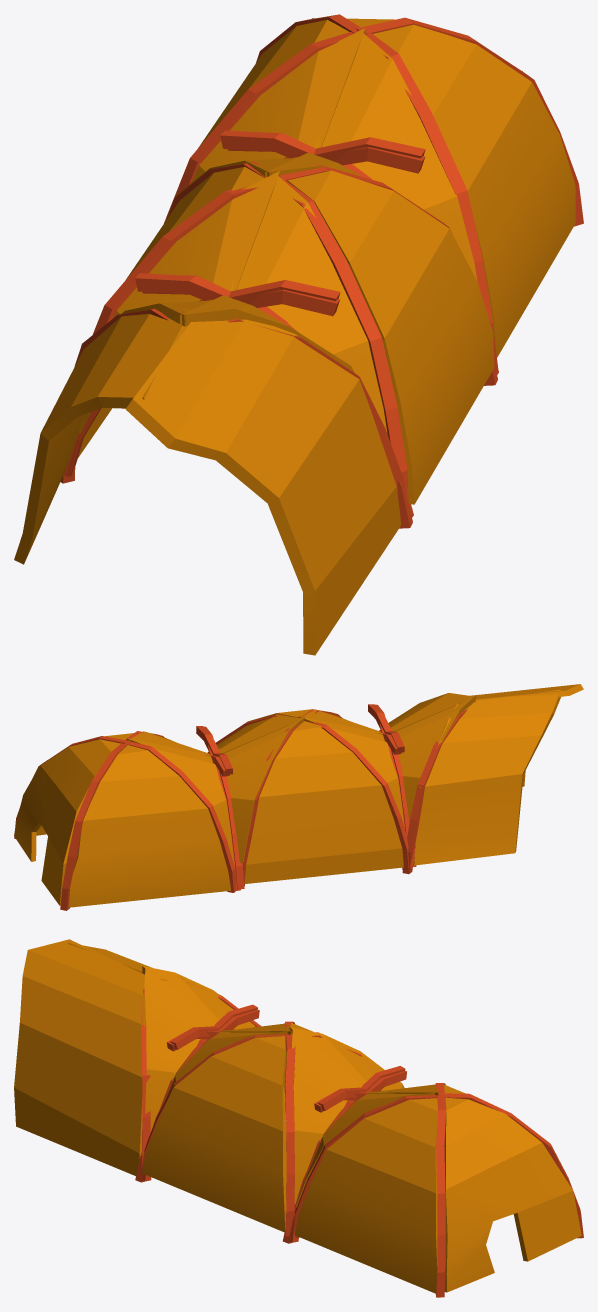
Rendered from NY_archs.fbx.
3 views of the same model, one above another, from view 1: azimuth 30°, elevation 25°; view 2: azimuth 150°, elevation 25°; view 3: azimuth 270°, elevation 25° (orthographic). The views are drawn at different scales.
Parts seen in each view (by area): view 1: actualArcs; view 2: actualArcs; view 3: actualArcs.
Boxes of the visible parts, bbox=[...] form: actualArcs: bbox=[14, 14, 583, 655]; actualArcs: bbox=[14, 684, 583, 910]; actualArcs: bbox=[14, 939, 583, 1297].
Bounding box in the file's own units: 3378 × 1106 × 3701.
